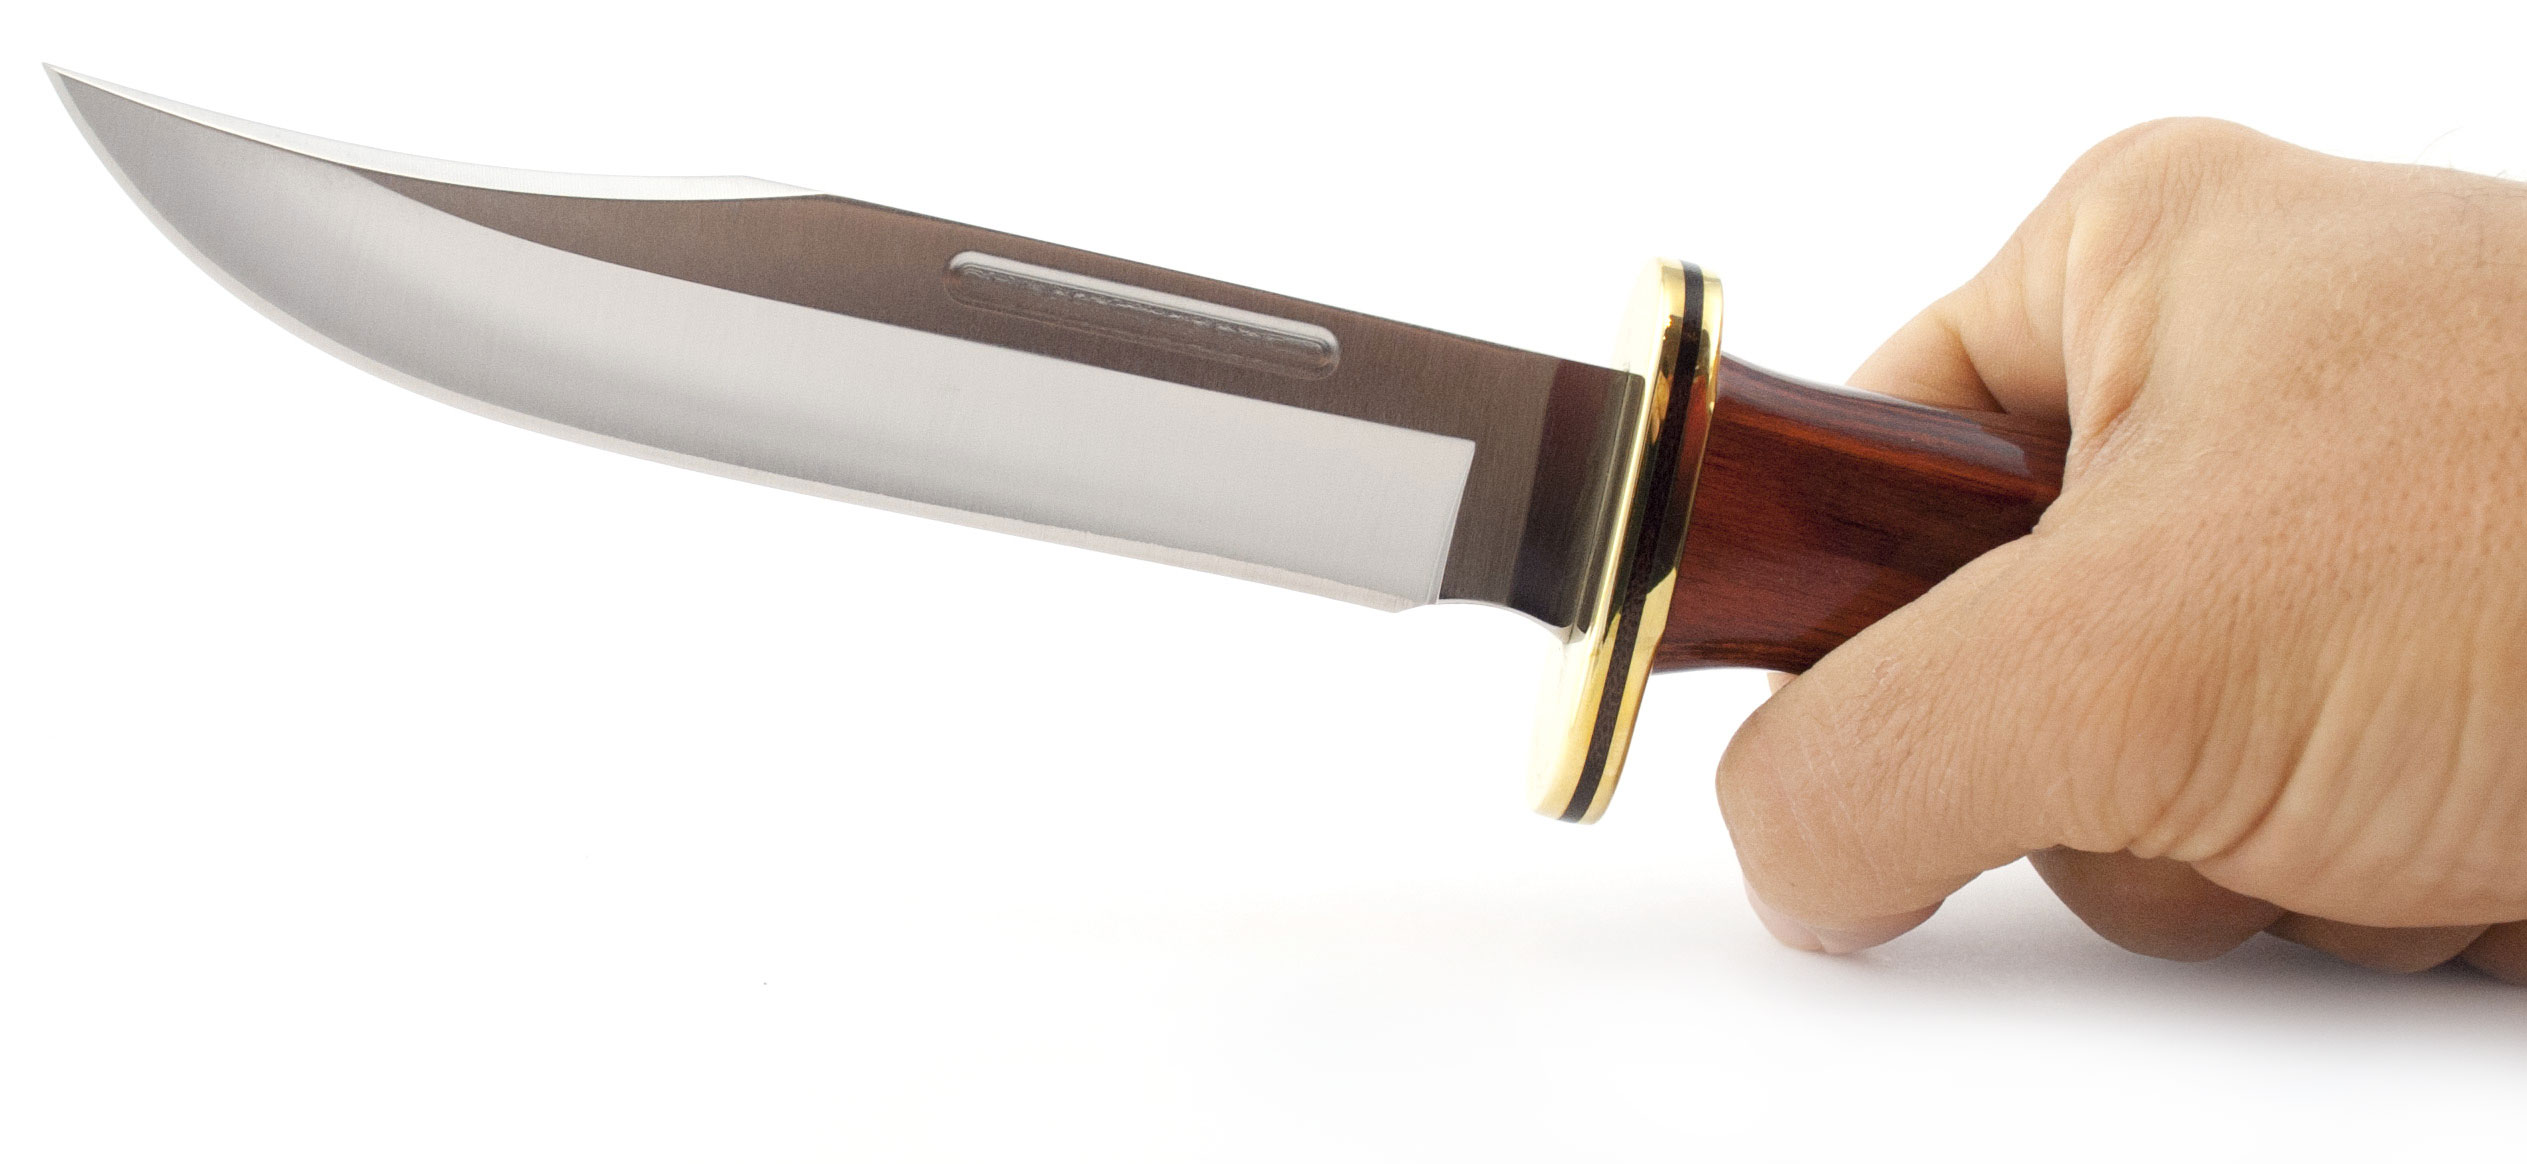knife: (27, 53, 1927, 738)
